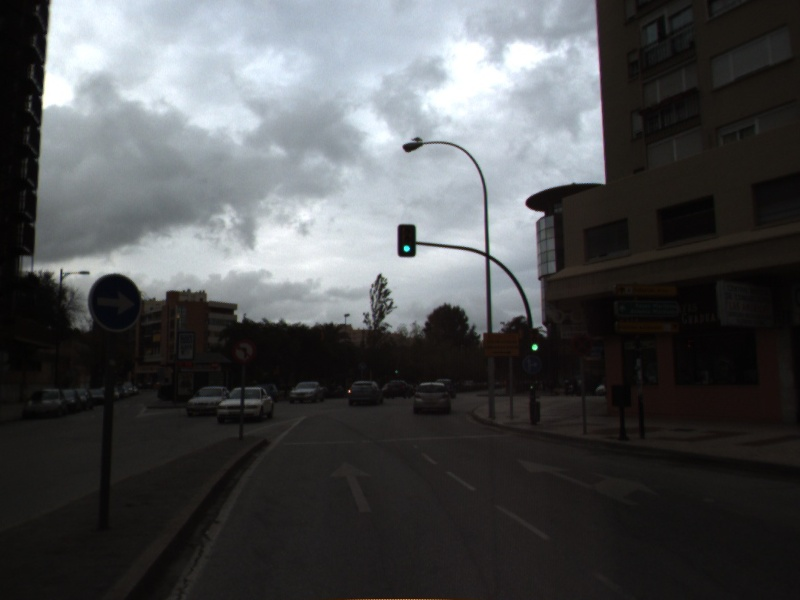STRAIGHT: (327, 459, 377, 515)
STRAIGHT_RIGHT: (514, 456, 661, 507)
